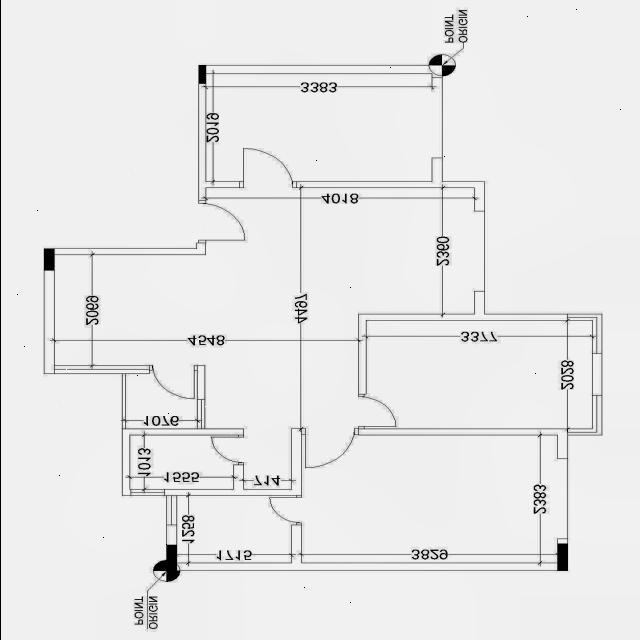Column: (556, 544, 566, 572), (42, 248, 54, 270), (166, 545, 176, 571), (198, 65, 205, 84)
Door: (300, 428, 358, 468), (238, 148, 296, 188), (198, 200, 245, 243), (148, 365, 196, 399), (358, 394, 396, 429), (209, 435, 243, 465), (268, 495, 300, 525)
Window: (566, 395, 601, 435), (566, 314, 601, 354), (53, 366, 148, 374), (166, 495, 176, 525), (196, 399, 204, 429), (130, 490, 164, 496)
